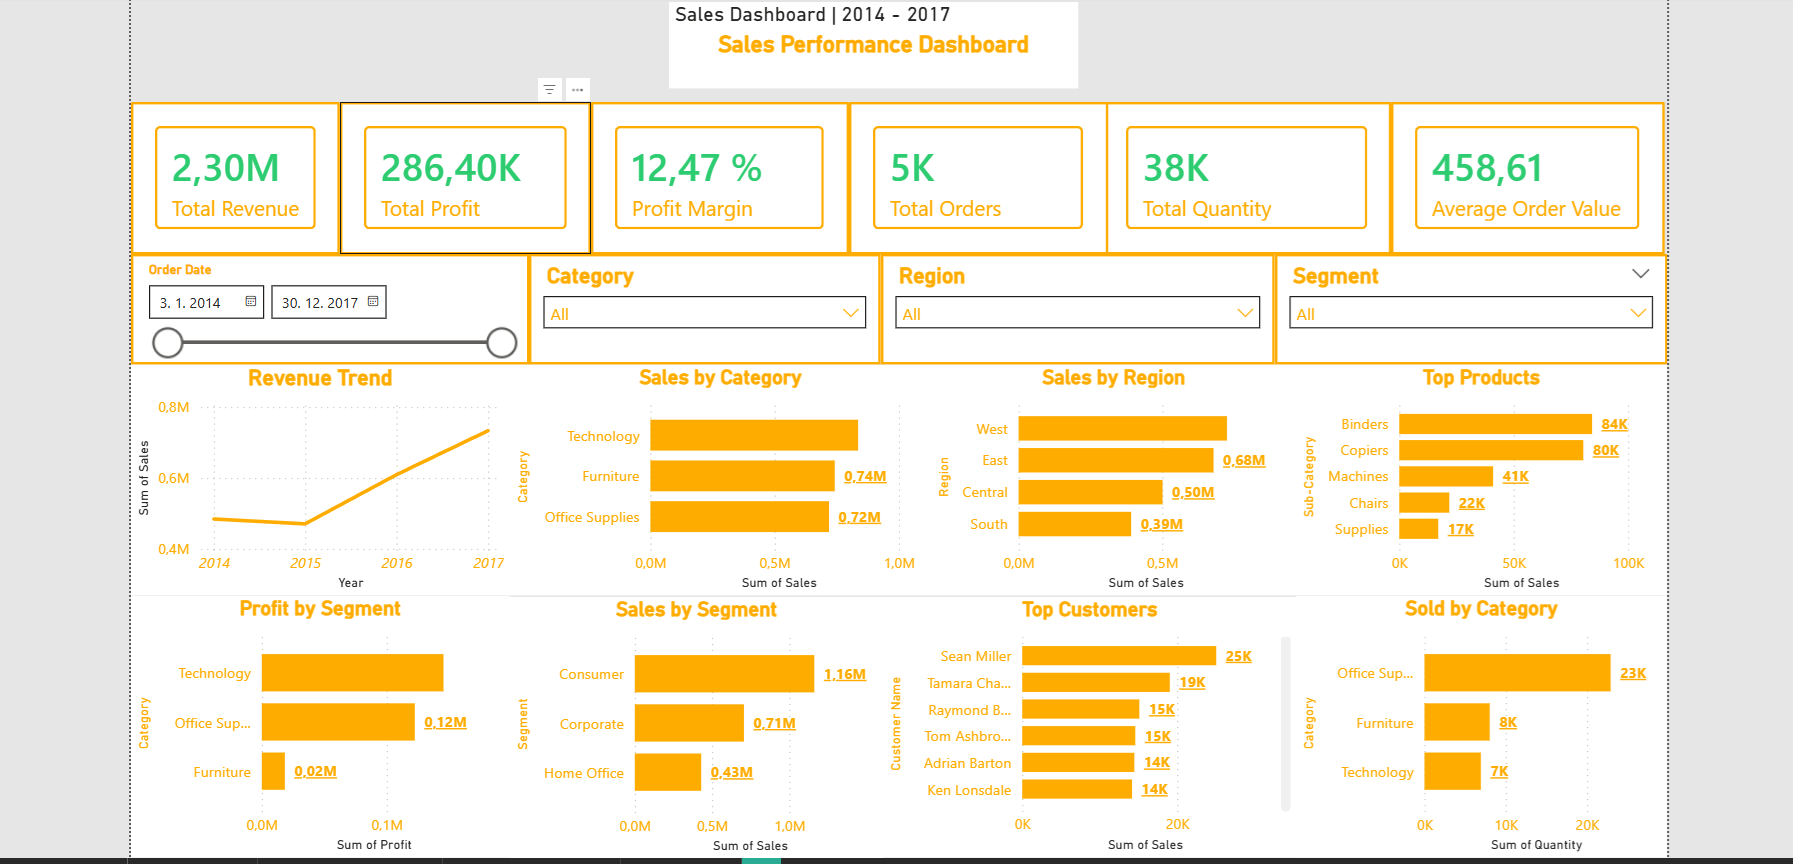

What the dashboard file says about the page in this screenshot:
{"tool":"powerbi","page":{"name":"Executive Sales Dashboard","canvas":[1280,720],"ordinal":1},"visuals":[{"type":"cardVisual","fields":{"Data":["Sales.Total Revenue"]},"box":[0,89.8,174.1,127],"z":0},{"type":"cardVisual","fields":{"Data":["Sales.Total Quantity"]},"box":[808.9,89.8,241.2,127],"z":1000},{"type":"cardVisual","fields":{"Data":["Sales.Total Profit"]},"box":[174.1,89.8,209.5,127],"z":2000},{"type":"cardVisual","fields":{"Data":["Sales.Total Orders"]},"box":[598.5,89.8,215.8,127],"z":3000},{"type":"cardVisual","fields":{"Data":["Sales.Profit Margin"]},"box":[383.6,89.8,214.9,127],"z":4000},{"type":"lineChart","title":"Revenue Trend","fields":{"Y":["Sum(Sales.Sales)"],"Category":["Sales.Order Date.Variation.Date Hierarchy.Year","Sales.Order Date.Variation.Date Hierarchy.Month"]},"box":[0,309.2,315.6,192.2],"z":5000},{"type":"clusteredBarChart","title":"Top Products","fields":{"Category":["Sales.Sub-Category","Sales.Product Name"],"Y":["Sum(Sales.Sales)"]},"box":[971.2,309.2,309.2,192.2],"z":6000},{"type":"clusteredBarChart","title":"Sales by Category","fields":{"Category":["Sales.Category","Sales.Sub-Category","Sales.Product Name"],"Y":["Sum(Sales.Sales)"]},"box":[315.6,309.2,350.9,192.2],"z":7000},{"type":"clusteredBarChart","title":"Sales by Region","fields":{"Category":["Sales.Region"],"Y":["Sum(Sales.Sales)"]},"box":[666.5,309.2,304.7,192.2],"z":8000},{"type":"slicer","fields":{"Values":["Sales.Order Date"]},"box":[0,216.7,331.9,92.5],"z":9000},{"type":"slicer","fields":{"Values":["Sales.Category"]},"box":[331.9,216.7,292.9,92.5],"z":10000},{"type":"slicer","fields":{"Values":["Sales.Region"]},"box":[624.8,216.7,328.3,92.5],"z":11000},{"type":"slicer","fields":{"Values":["Sales.Segment"]},"box":[953,216.7,327.4,92.5],"z":12000},{"type":"clusteredBarChart","title":"Sold by Category","fields":{"Category":["Sales.Category"],"Y":["Sum(Sales.Quantity)"]},"box":[971.2,501.5,309.2,217.6],"z":13000},{"type":"cardVisual","fields":{"Data":["Sales.Average Order Value"]},"box":[1050.1,89.8,227.6,127],"z":14000},{"type":"clusteredBarChart","title":"Sales by Segment","fields":{"Category":["Sales.Segment"],"Y":["Sum(Sales.Sales)"]},"box":[315.6,502.4,311,217.6],"z":15000},{"type":"clusteredBarChart","title":"Top Customers","fields":{"Category":["Sales.Customer Name"],"Y":["Sum(Sales.Sales)"]},"box":[626.6,502.4,344.6,216.7],"z":16000},{"type":"clusteredBarChart","title":"Profit by Segment","fields":{"Category":["Sales.Category"],"Y":["Sum(Sales.Profit)"]},"box":[0,501.5,315.6,217.6],"z":17000},{"type":"textbox","box":[448,6.3,341,71.6],"z":17001}]}

Visuals, with their boxes on the page's 1280x720 design canvas (x1, y1, x2, y2). These are canvas units, not pixel positions in the 1793x864 screenshot, which may show the page scaled, cropped or inside an application window:
cardVisual - Sales.Total Revenue: pyautogui.locateOnScreen(0, 90, 174, 217)
cardVisual - Sales.Total Quantity: pyautogui.locateOnScreen(809, 90, 1050, 217)
cardVisual - Sales.Total Profit: pyautogui.locateOnScreen(174, 90, 384, 217)
cardVisual - Sales.Total Orders: pyautogui.locateOnScreen(598, 90, 814, 217)
cardVisual - Sales.Profit Margin: pyautogui.locateOnScreen(384, 90, 598, 217)
"Revenue Trend" lineChart: pyautogui.locateOnScreen(0, 309, 316, 501)
"Top Products" clusteredBarChart: pyautogui.locateOnScreen(971, 309, 1280, 501)
"Sales by Category" clusteredBarChart: pyautogui.locateOnScreen(316, 309, 666, 501)
"Sales by Region" clusteredBarChart: pyautogui.locateOnScreen(666, 309, 971, 501)
slicer - Sales.Order Date: pyautogui.locateOnScreen(0, 217, 332, 309)
slicer - Sales.Category: pyautogui.locateOnScreen(332, 217, 625, 309)
slicer - Sales.Region: pyautogui.locateOnScreen(625, 217, 953, 309)
slicer - Sales.Segment: pyautogui.locateOnScreen(953, 217, 1280, 309)
"Sold by Category" clusteredBarChart: pyautogui.locateOnScreen(971, 502, 1280, 719)
cardVisual - Sales.Average Order Value: pyautogui.locateOnScreen(1050, 90, 1278, 217)
"Sales by Segment" clusteredBarChart: pyautogui.locateOnScreen(316, 502, 627, 720)
"Top Customers" clusteredBarChart: pyautogui.locateOnScreen(627, 502, 971, 719)
"Profit by Segment" clusteredBarChart: pyautogui.locateOnScreen(0, 502, 316, 719)
textbox: pyautogui.locateOnScreen(448, 6, 789, 78)
